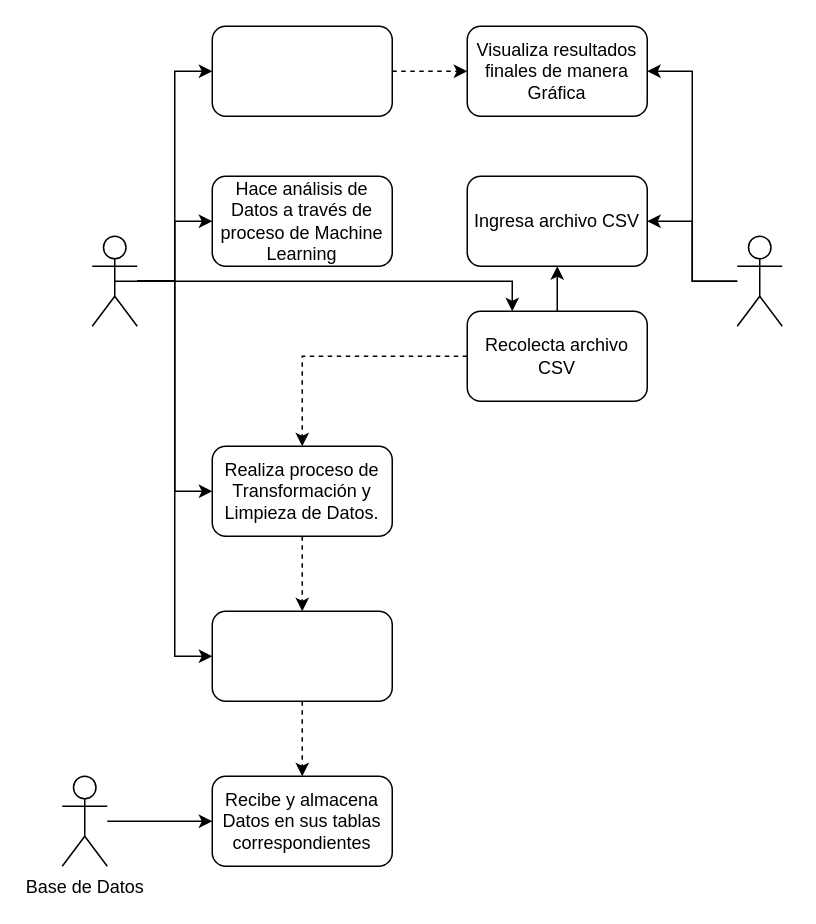
Image size: 816x924. Some labels were removed from this diagram. Each missing label, with the box of its shape:
Envía los Datos a DataMart: (211, 610, 392, 701)
Sistema: (91, 235, 137, 326)
Usuario: (736, 235, 782, 326)
Validación de los Modelos de Prueba y Evaluación: (211, 25, 392, 116)
